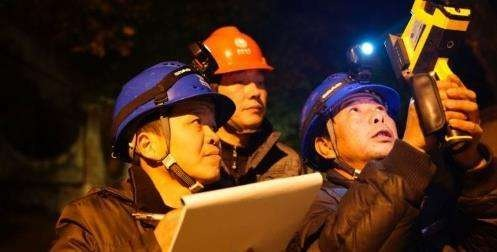blue: (109, 54, 228, 188), (299, 71, 399, 169)
yellow: (197, 23, 272, 133)
